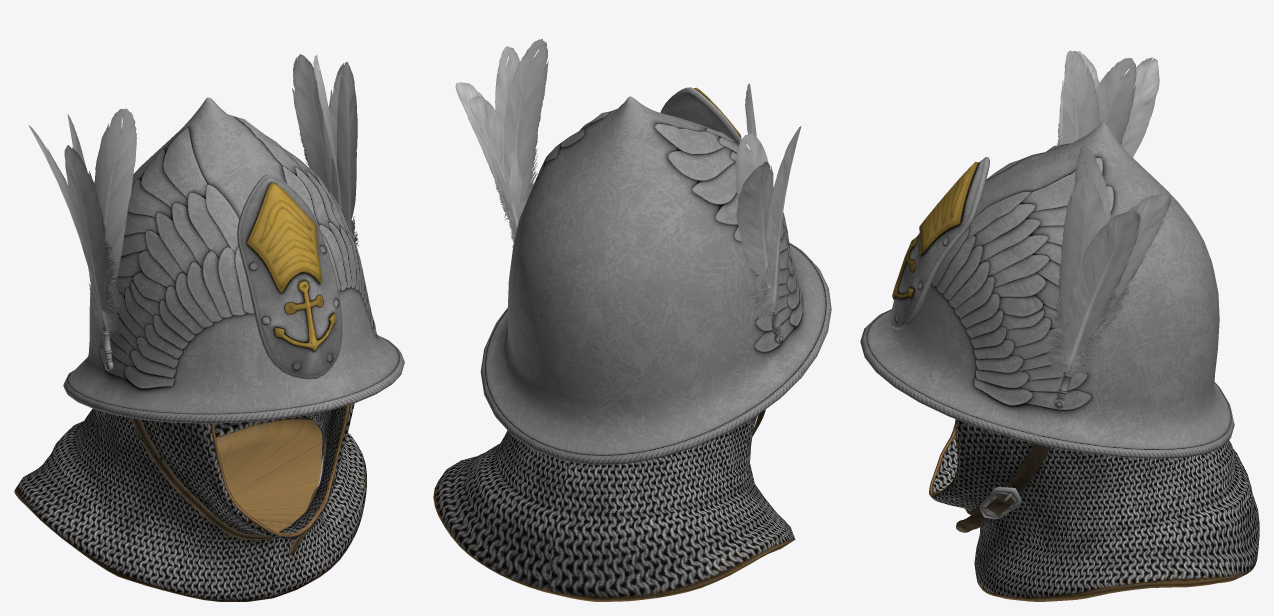
File: pelargirmarine_helmet_6_b_coif_plume.fbx
3 views of the same model, side by side, from view 1: azimuth 30°, elevation 25°; view 2: azimuth 150°, elevation 25°; view 3: azimuth 270°, elevation 25° (orthographic). The views are drawn at different scales.
Parts seen in each view (by area): view 1: pelargirmarine_helmet_6_b_coif_plume.2, pelargirmarine_helmet_6_b_coif_plume.0, pelargirmarine_helmet_6_b_coif_plume.1; view 2: pelargirmarine_helmet_6_b_coif_plume.2, pelargirmarine_helmet_6_b_coif_plume.0, pelargirmarine_helmet_6_b_coif_plume.1; view 3: pelargirmarine_helmet_6_b_coif_plume.2, pelargirmarine_helmet_6_b_coif_plume.0, pelargirmarine_helmet_6_b_coif_plume.1.
Boxes of the visible parts, x1,y1,x2,y2 form: pelargirmarine_helmet_6_b_coif_plume.2: (63,97,404,555); pelargirmarine_helmet_6_b_coif_plume.0: (14,403,366,601); pelargirmarine_helmet_6_b_coif_plume.1: (28,54,358,370); pelargirmarine_helmet_6_b_coif_plume.2: (480,87,831,465); pelargirmarine_helmet_6_b_coif_plume.0: (433,415,795,601); pelargirmarine_helmet_6_b_coif_plume.1: (455,39,801,343); pelargirmarine_helmet_6_b_coif_plume.2: (860,124,1234,532); pelargirmarine_helmet_6_b_coif_plume.0: (929,419,1259,601); pelargirmarine_helmet_6_b_coif_plume.1: (1044,50,1171,408).
Size of the model in its own units: 0.3046 by 0.3249 by 0.4529.
Materials: 3 (3 with a texture image).
